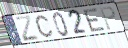0: (52, 11, 70, 37)
2: (67, 8, 90, 37)
C: (35, 14, 54, 39)
E: (82, 7, 106, 33)
P: (99, 5, 117, 32)
Z: (14, 15, 41, 43)
